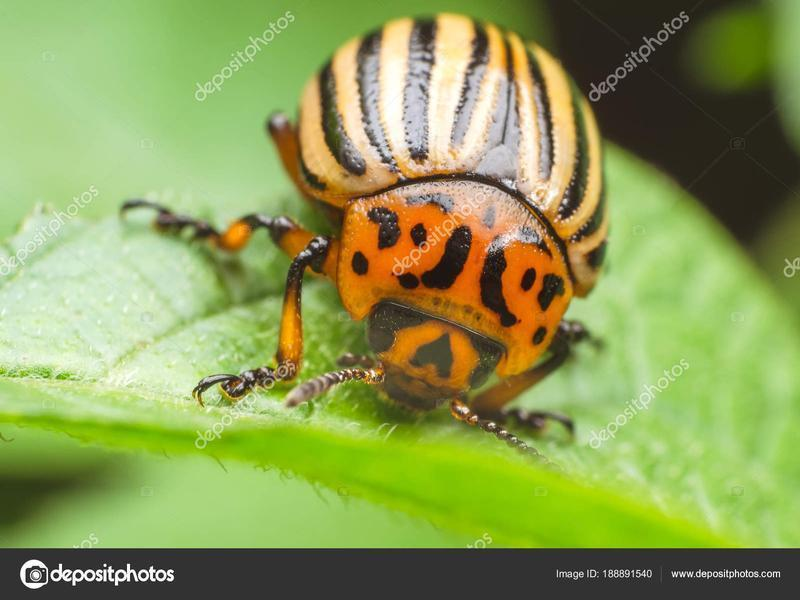hrosc: (267, 11, 619, 444)
